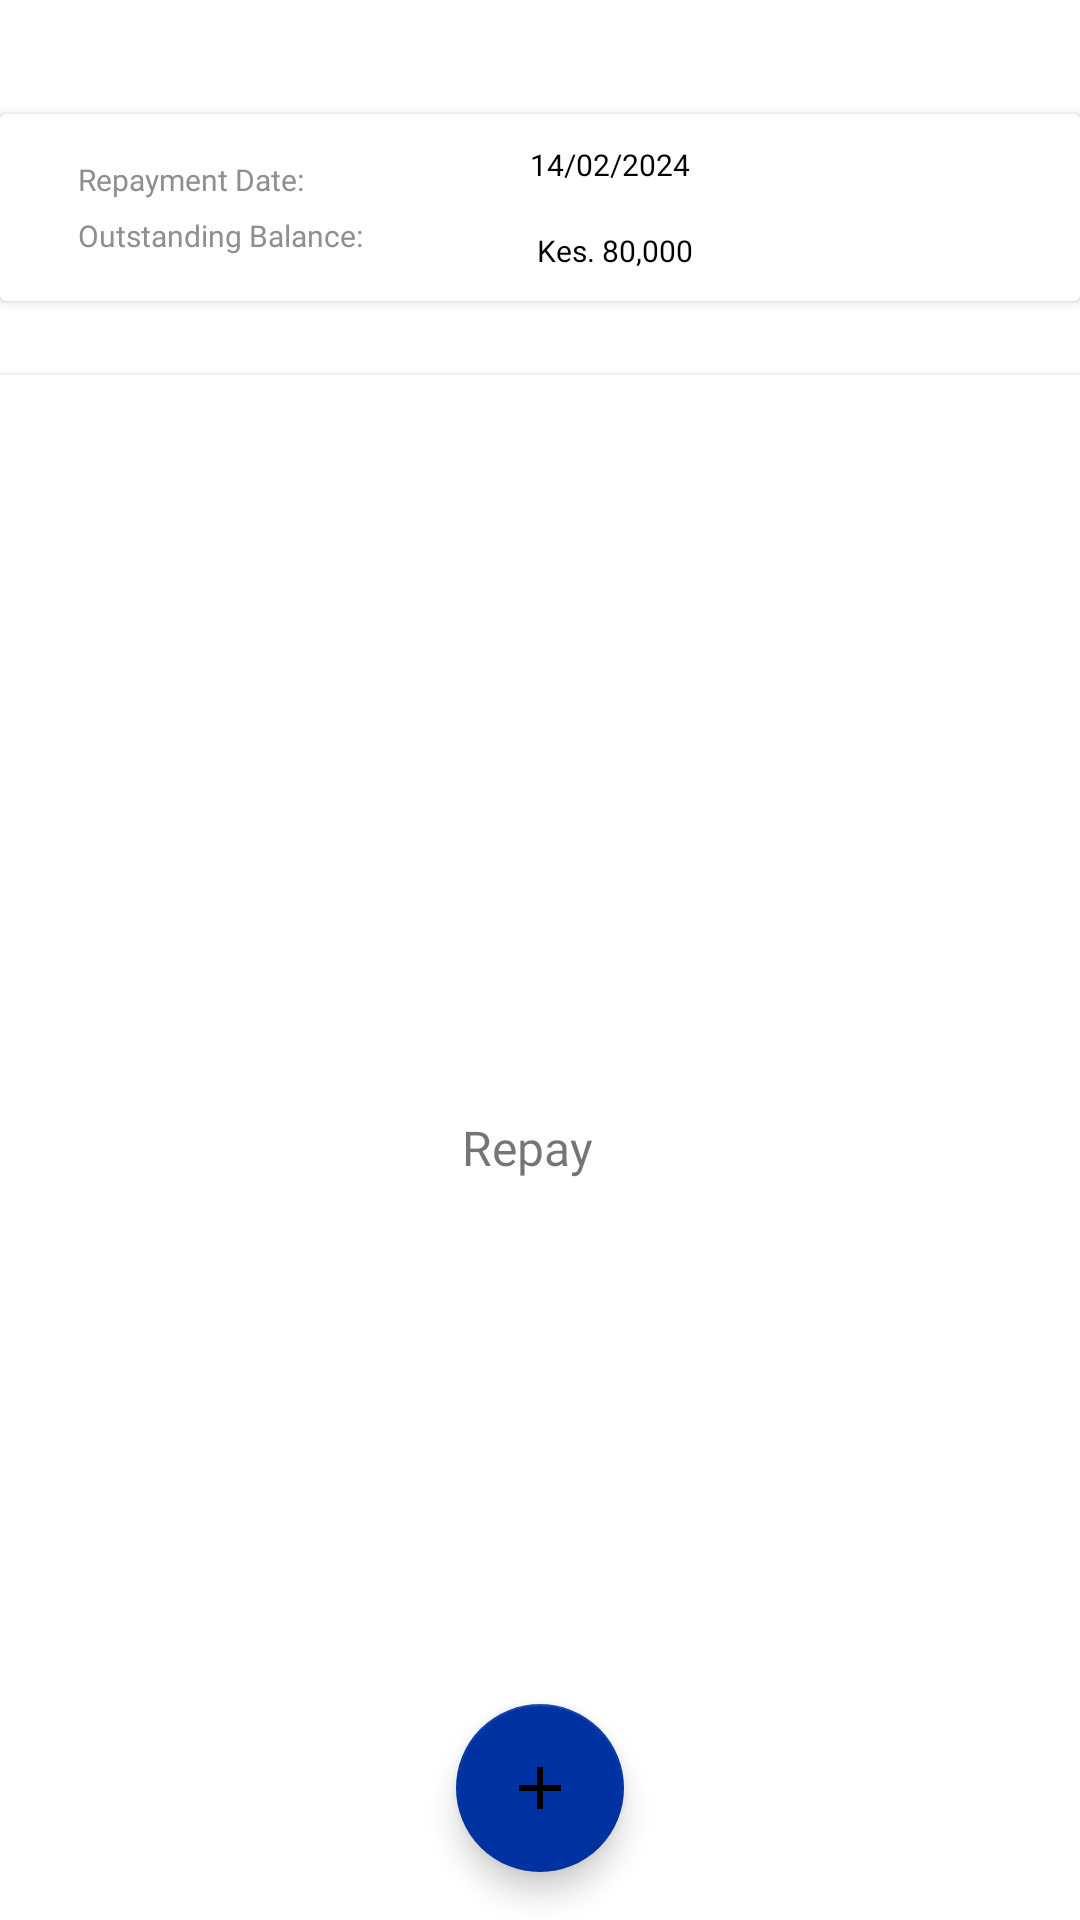

Icons on this 1080 × 1920 Android screen, each with its box as (x1, y1, x2, y2):
add: (456, 1704, 624, 1872)
